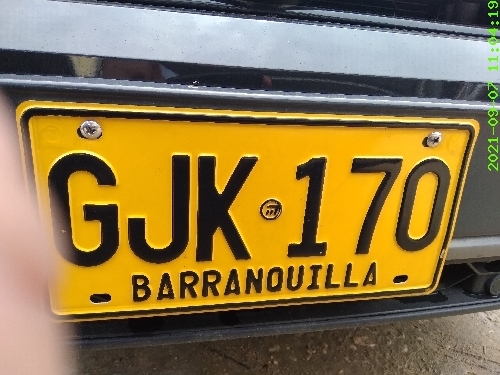number_plate: (22, 103, 480, 318)
